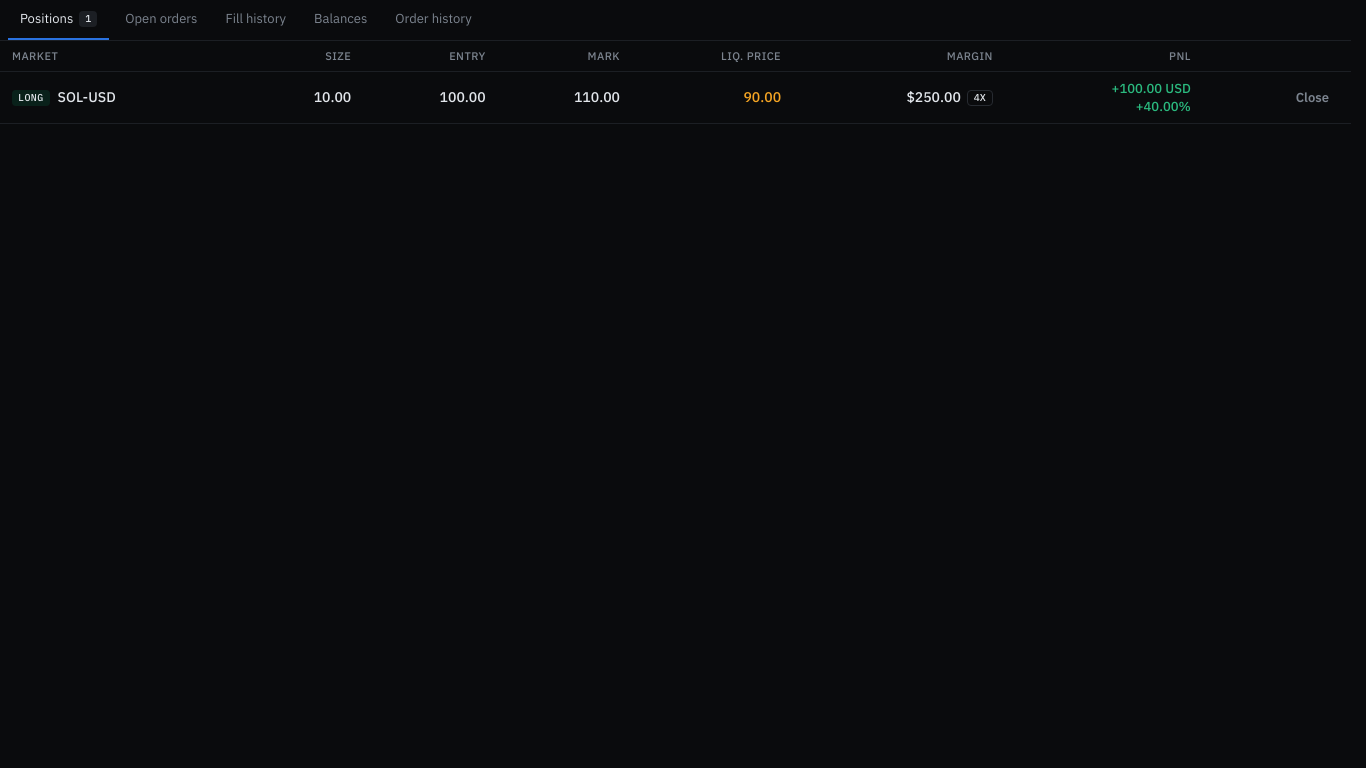
Test case: closing a position › keeps the position and shows the engine's own words when the close is refused
The width and height of the screenshot is (1366, 768).
Click the button "Close": (1312, 98) [1286,84,1339,112]
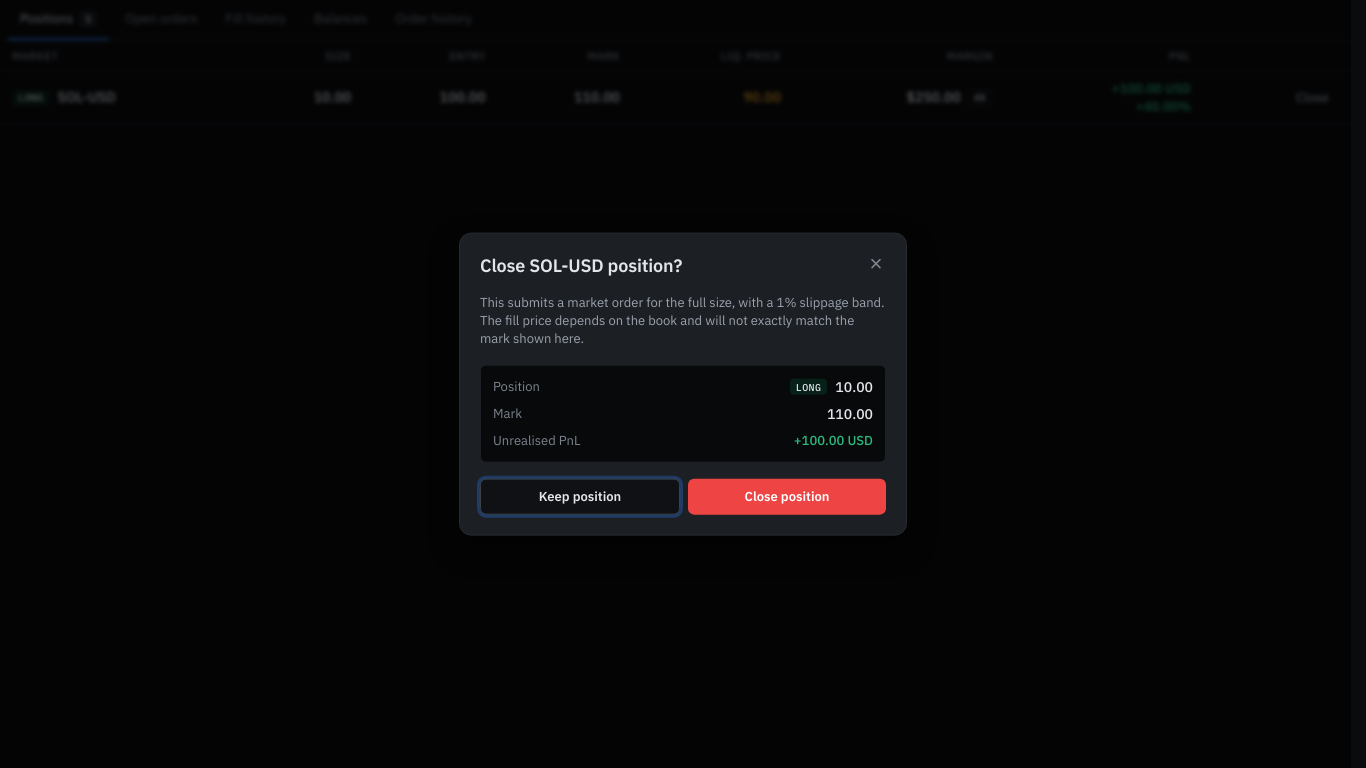
Click the button "Close position": (787, 496) [688,478,886,514]
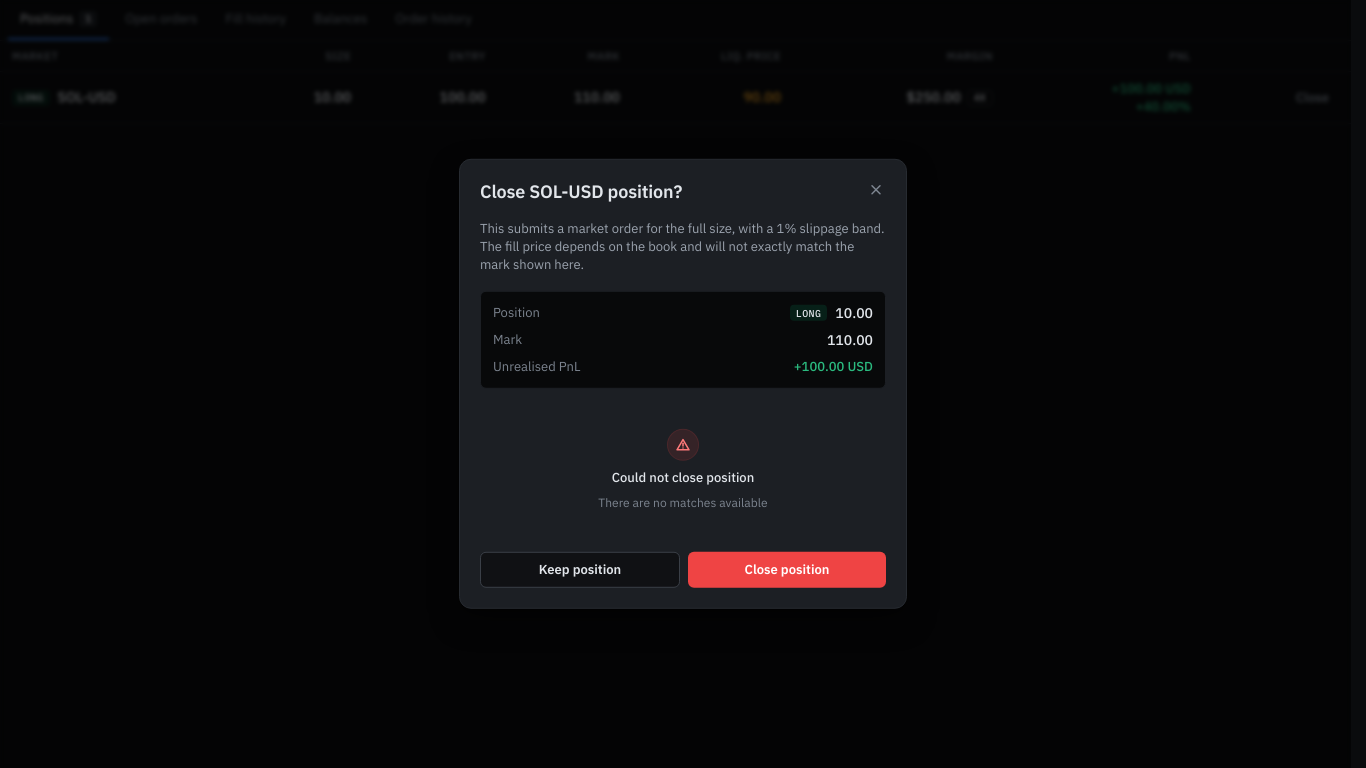
Expected: the text "SOL-USD" is shown, [58,88,116,107]
Now the text "There are no matches available" is shown, box [598,493,768,512]
